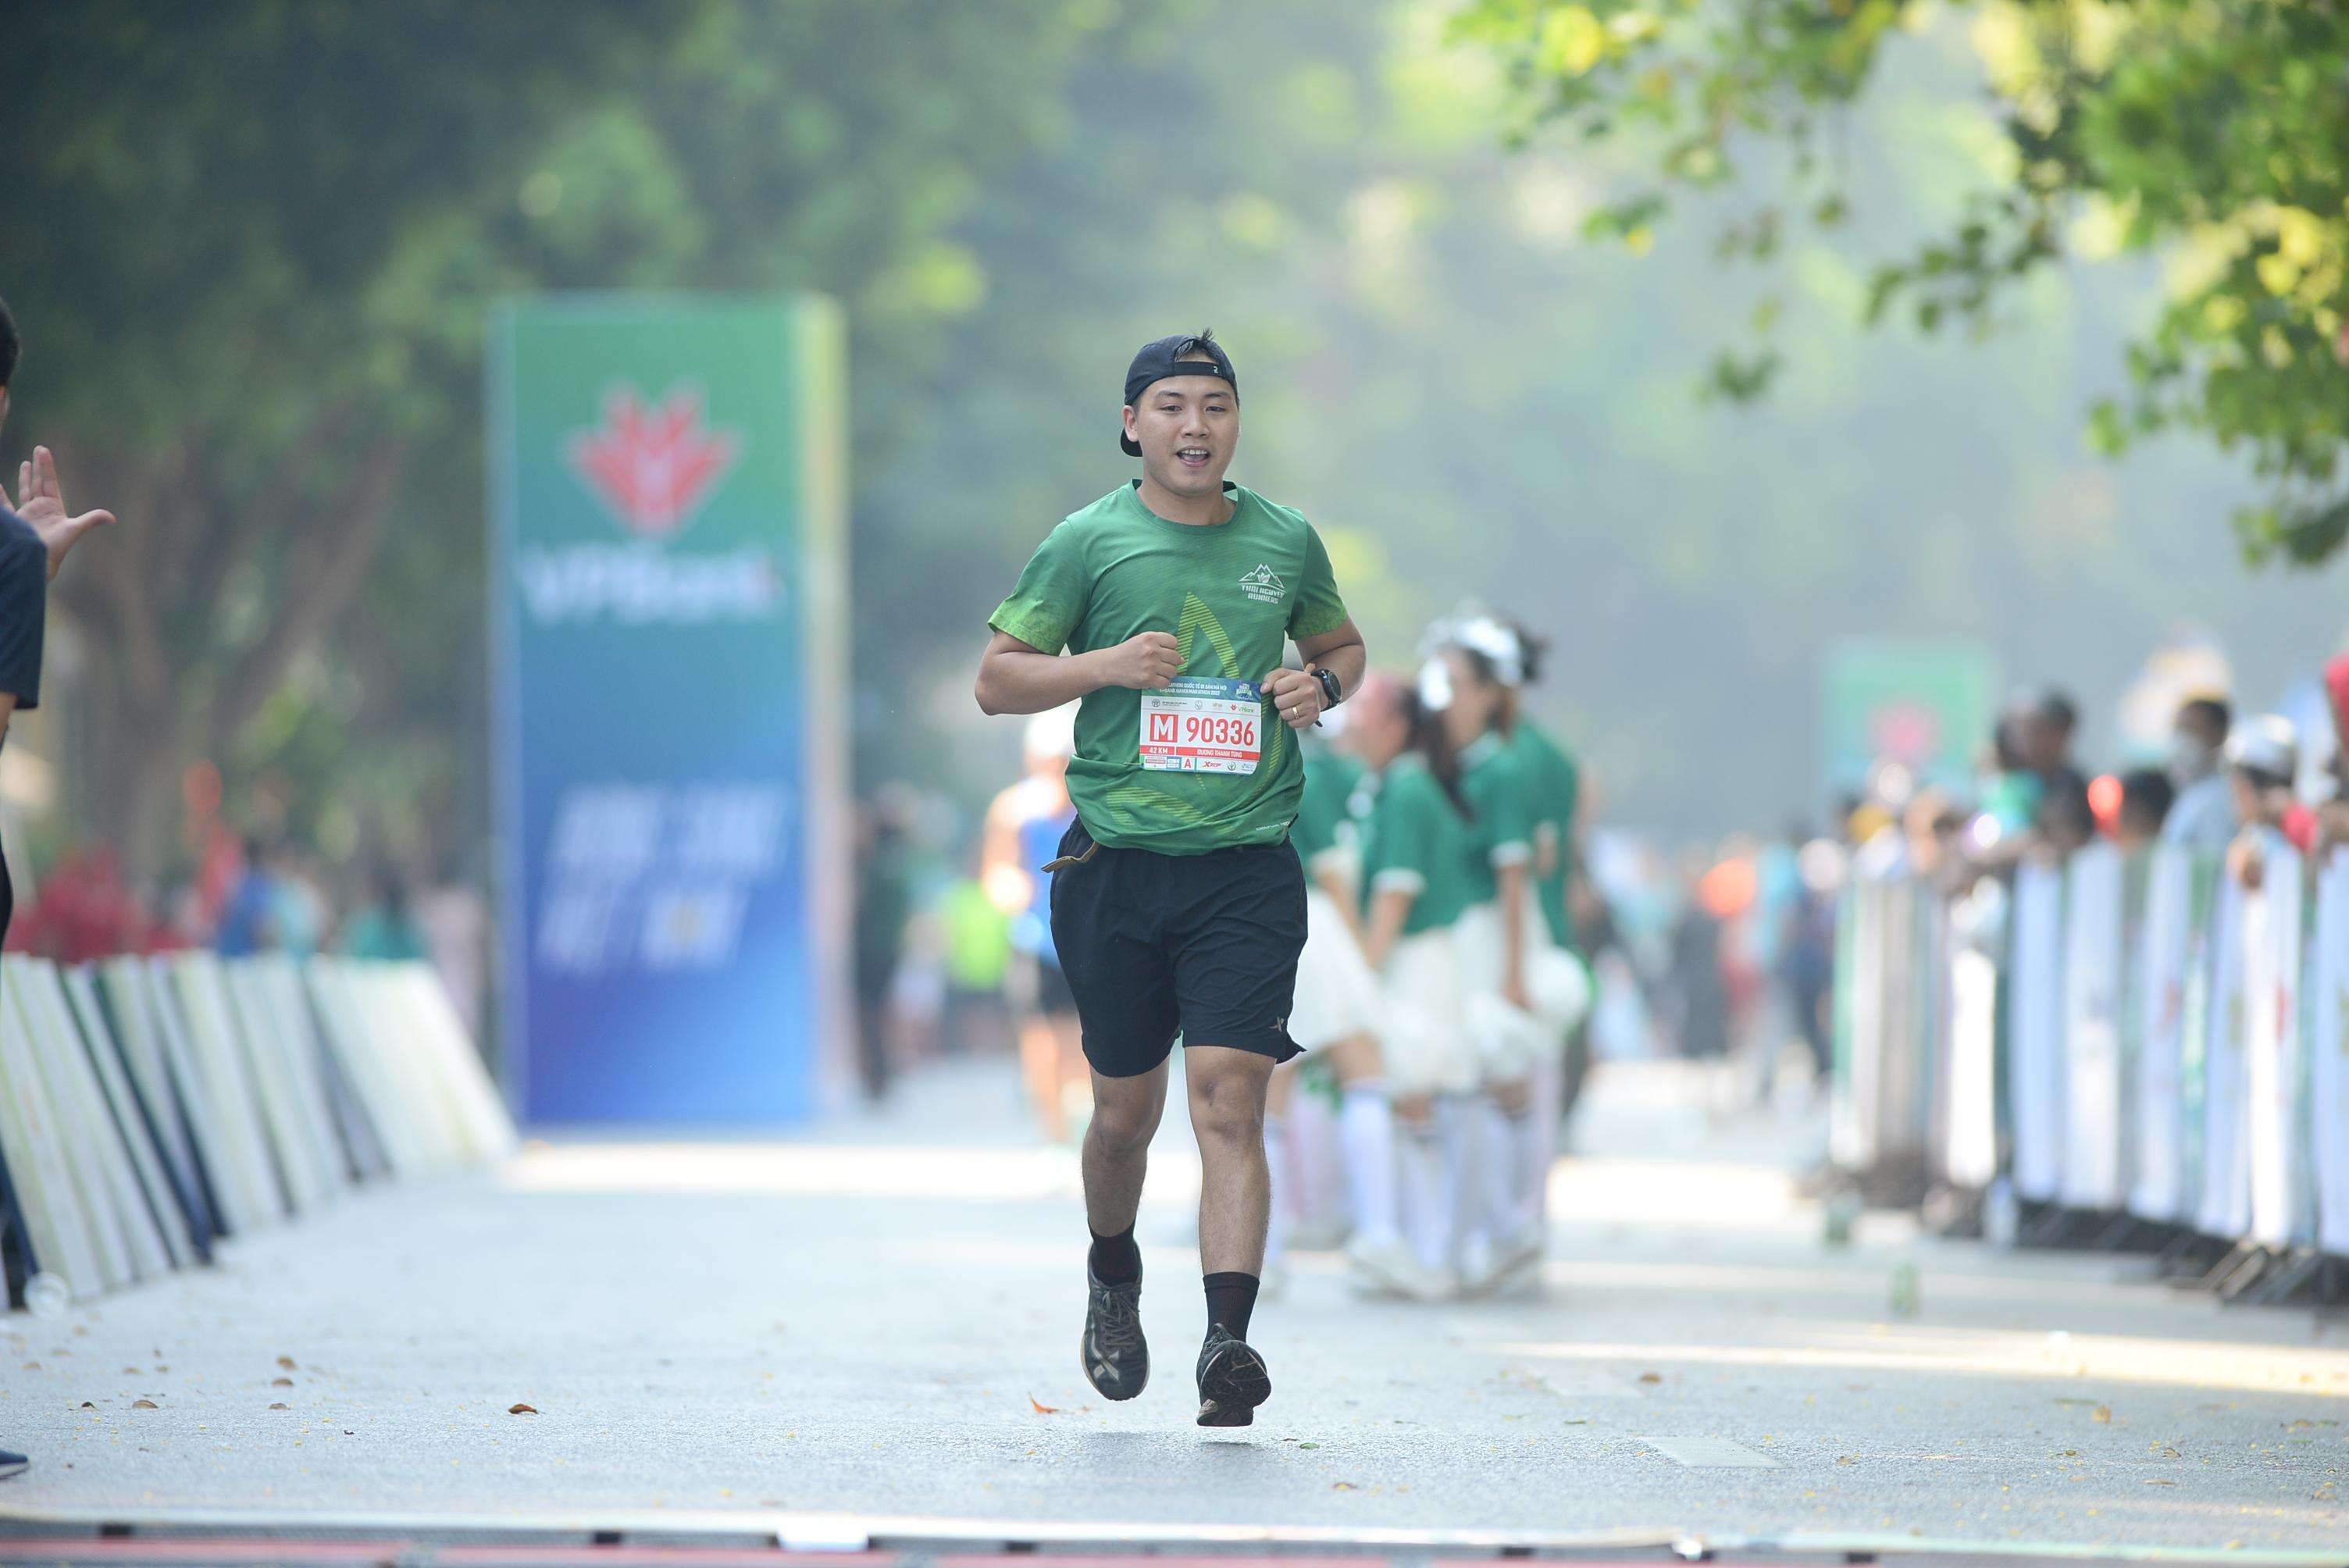bib: (1139, 674, 1262, 779)
